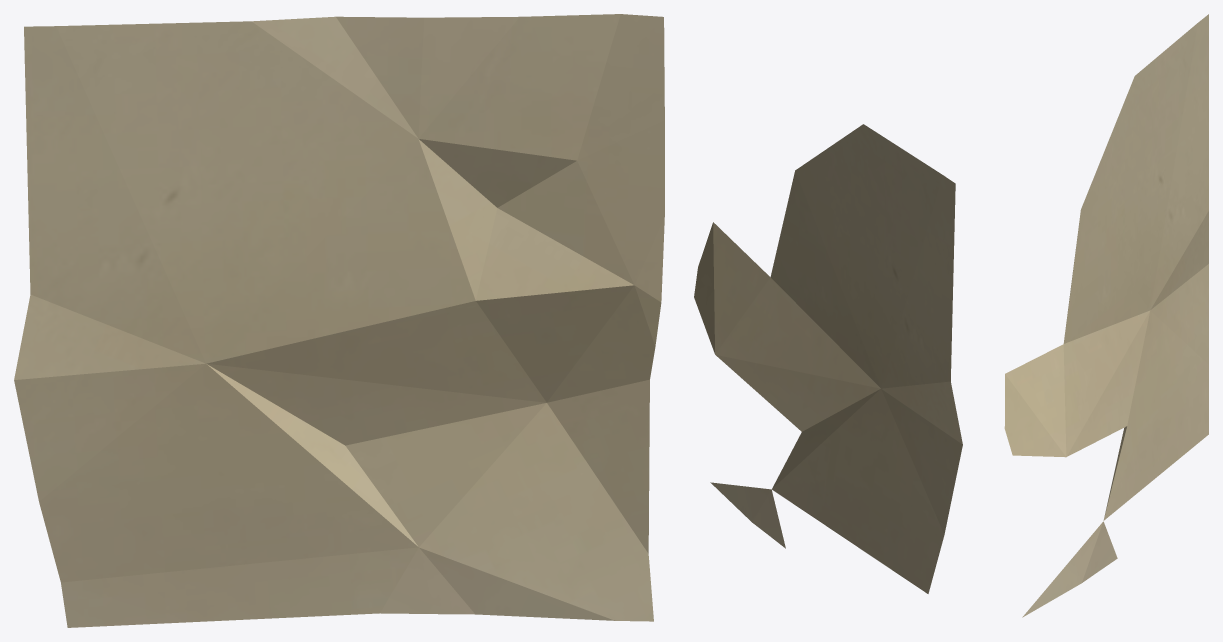
3 renders of one model, left to right at view 1: azimuth 30°, elevation 25°; view 2: azimuth 150°, elevation 25°; view 3: azimuth 270°, elevation 25°, orthographic. The views are drawn at different scales.
Bounding box in the file's own units: 0.7159 × 0.8374 × 0.3743.
2 materials, 2 textured.
